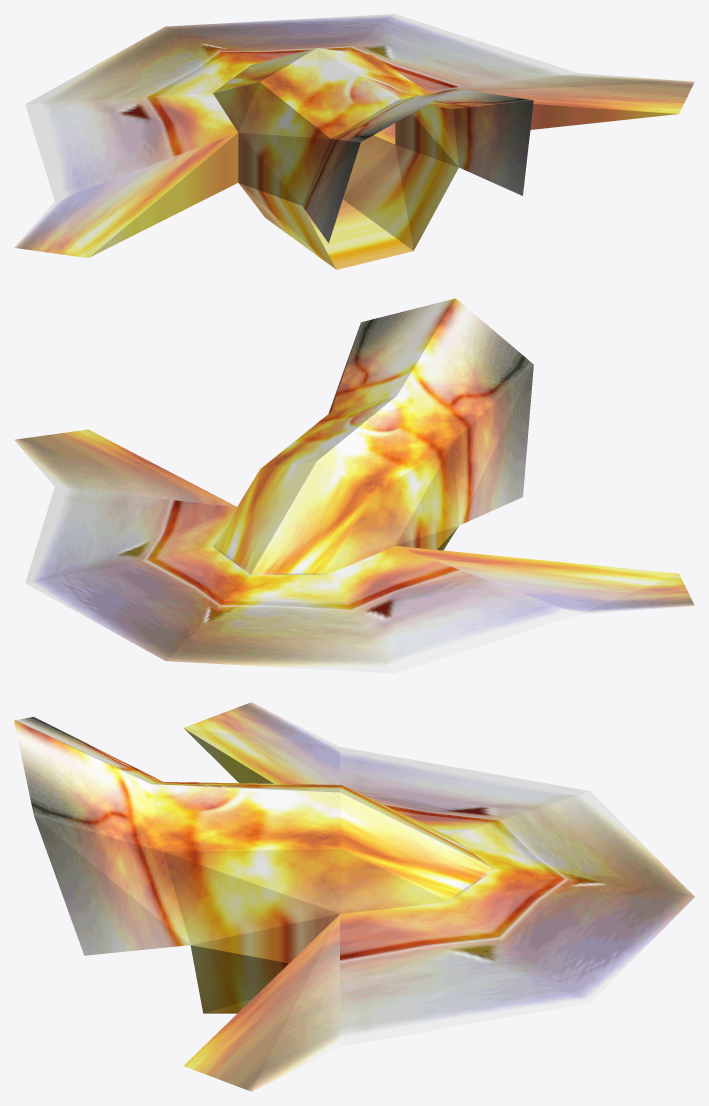
File: twinblade102_3.obj
3 views of the same model, one above another, from view 1: azimuth 30°, elevation 25°; view 2: azimuth 150°, elevation 25°; view 3: azimuth 270°, elevation 25° (orthographic). The views are drawn at different scales.
Parts seen in each view (by area): view 1: MDL_cwdhkn02_3r; view 2: MDL_cwdhkn02_3r; view 3: MDL_cwdhkn02_3r.
Part boxes in pixels (bbox=[...]): MDL_cwdhkn02_3r: bbox=[14, 14, 694, 269]; MDL_cwdhkn02_3r: bbox=[14, 298, 694, 673]; MDL_cwdhkn02_3r: bbox=[14, 702, 694, 1091].
Bounding box in the file's own units: 0.64 × 0.2074 × 0.4725.
